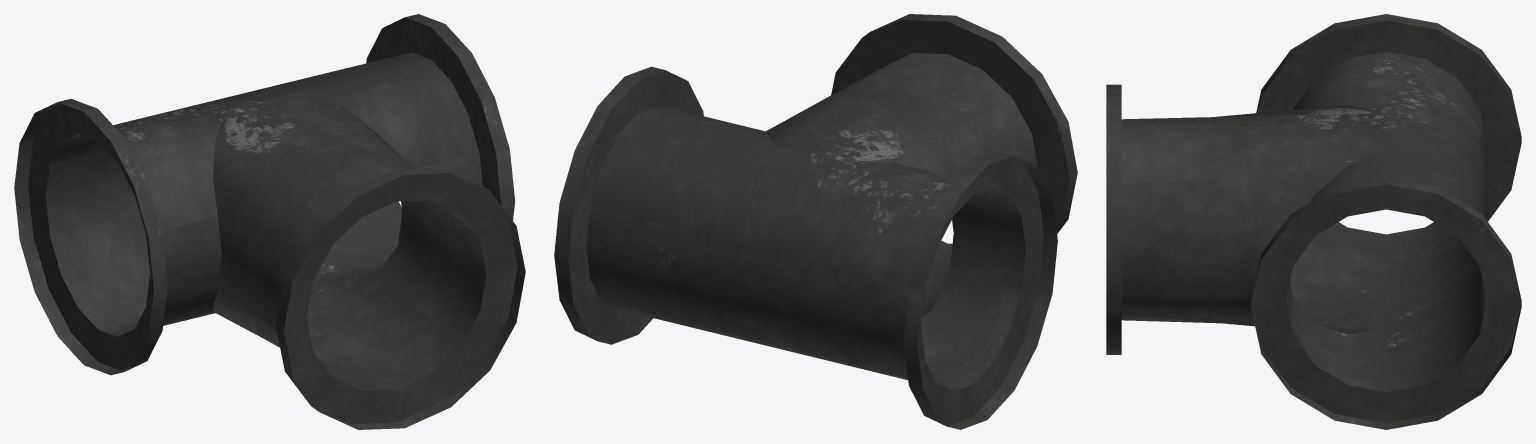
Rendered from pipeT.fbx.
The picture shows the model from 3 angles, left to right: view 1: azimuth 30°, elevation 25°; view 2: azimuth 150°, elevation 25°; view 3: azimuth 270°, elevation 25°; orthographic projection. The views are drawn at different scales.
Parts seen in each view (by area): view 1: pipeT; view 2: pipeT; view 3: pipeT.
Part boxes in pixels (x1,y1,x2,y2): pipeT: (14,14,525,429); pipeT: (554,14,1077,429); pipeT: (1106,14,1521,429).
Bounding box in the file's own units: 0.6409 × 0.4296 × 0.6592.
